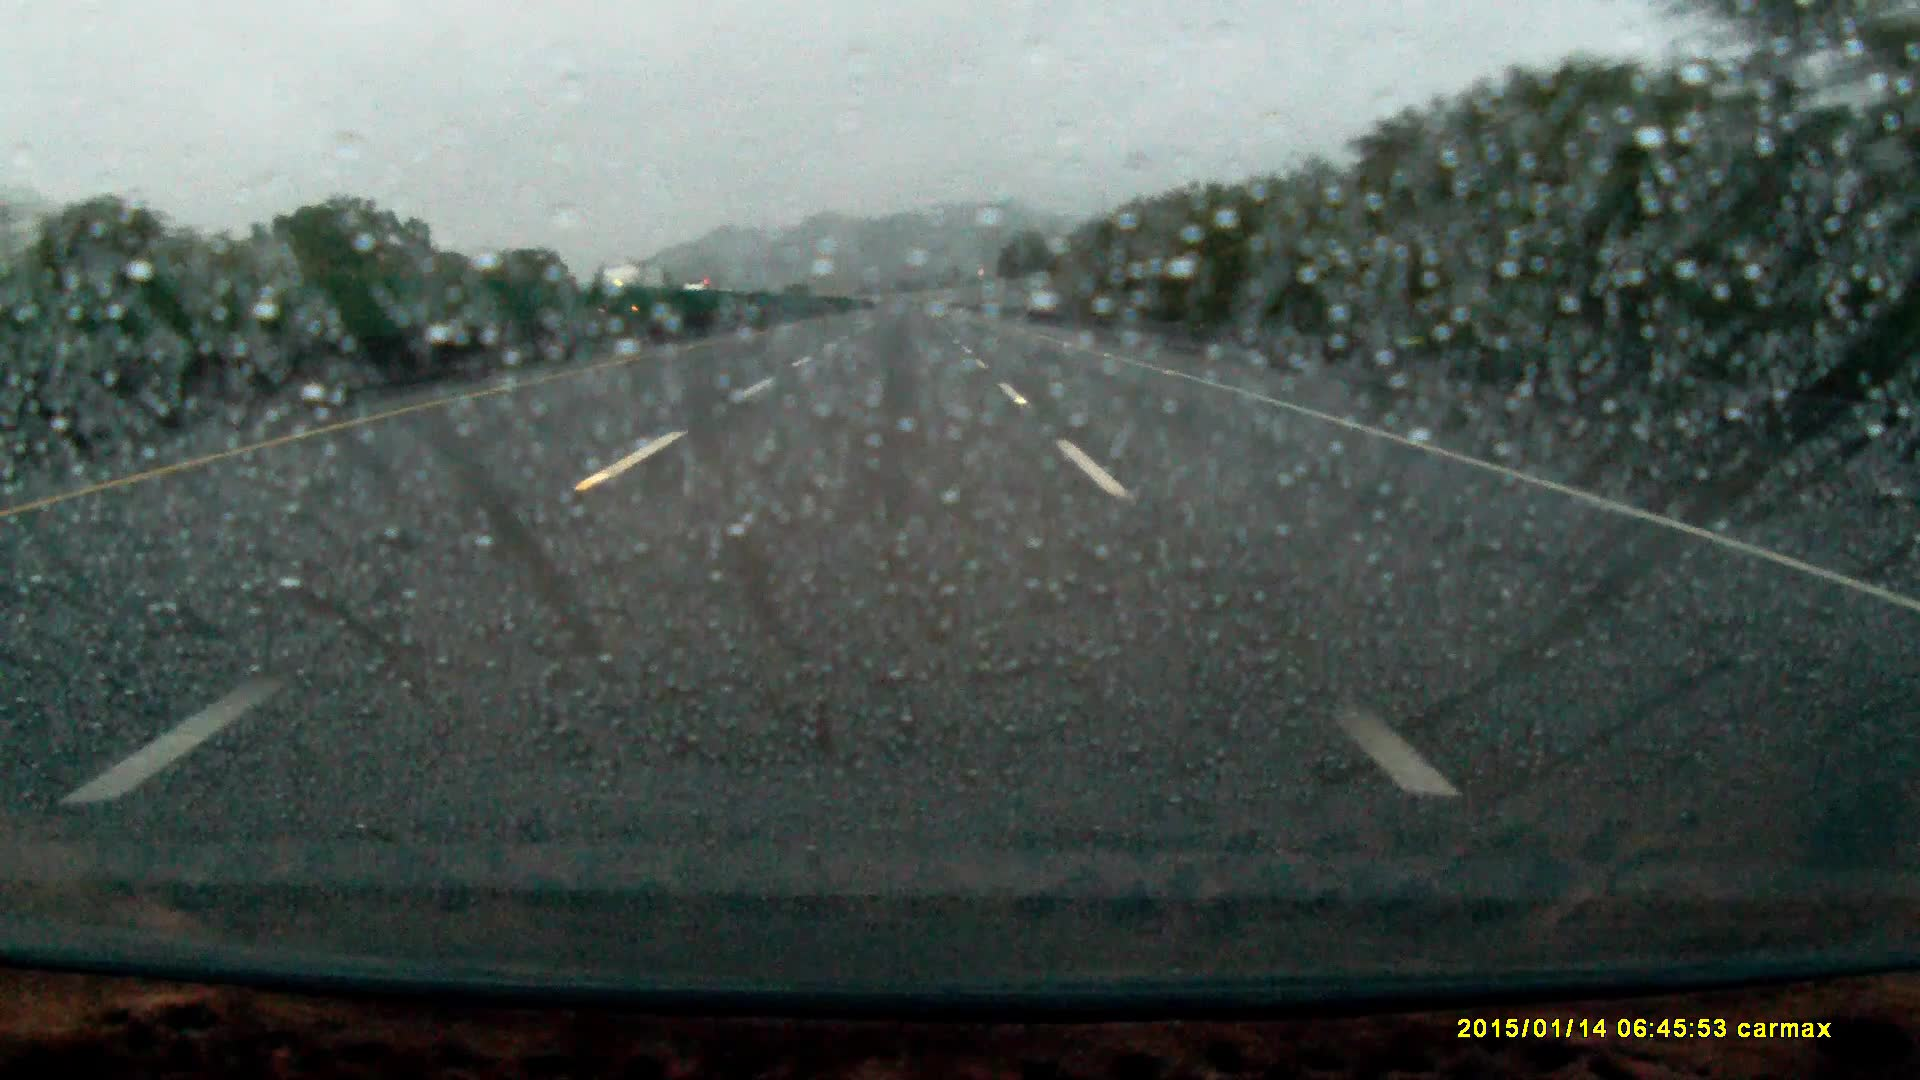vehicle: (683, 277, 715, 302)
